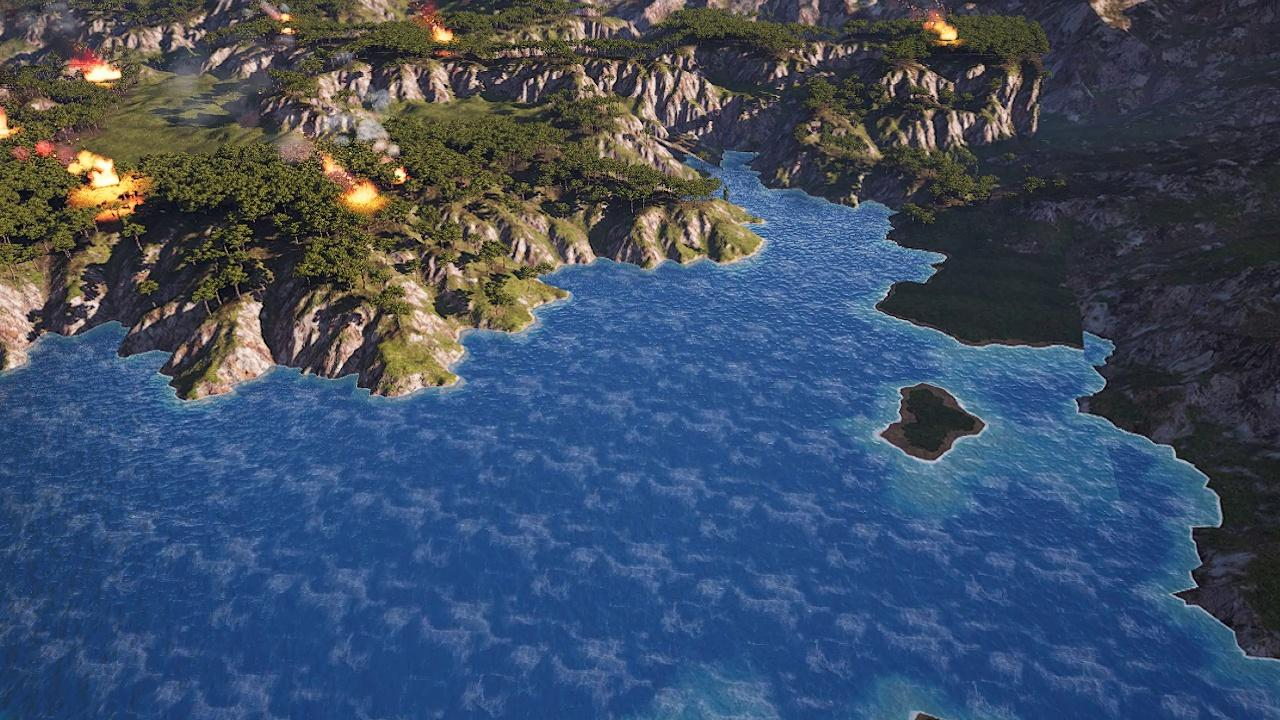fire: (316, 149, 385, 209), (71, 152, 121, 199), (12, 139, 76, 163), (73, 58, 124, 85), (931, 17, 961, 43), (0, 98, 15, 140), (425, 26, 458, 45), (393, 165, 413, 185), (279, 10, 294, 34)
smoke: (170, 50, 404, 155)
